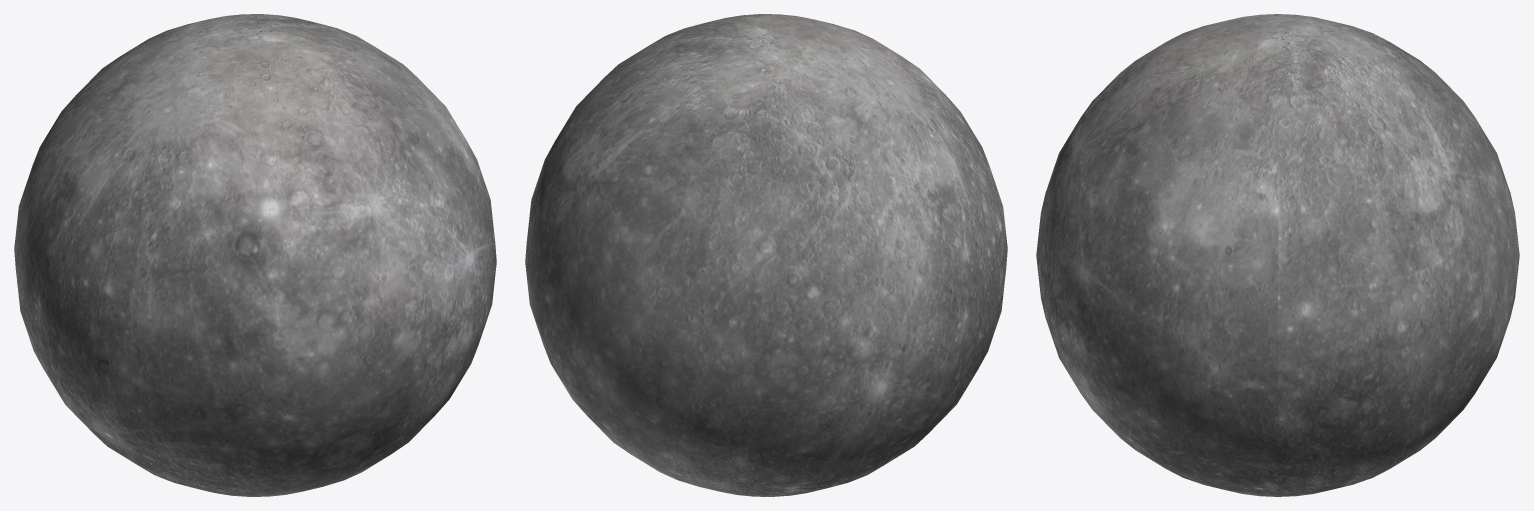
Rendered from Mercury.gltf.
3 views of the same model, side by side, from view 1: azimuth 30°, elevation 25°; view 2: azimuth 150°, elevation 25°; view 3: azimuth 270°, elevation 25° (orthographic).
Visible parts, largest first — view 1: Sphere.025, Sphere.002; view 2: Sphere.002, Sphere.025; view 3: Sphere.002, Sphere.025.
Part boxes in pixels (x1=…): Sphere.025: x1=46, y1=30, x2=496, y2=496; Sphere.002: x1=14, y1=14, x2=370, y2=443; Sphere.002: x1=525, y1=30, x2=975, y2=496; Sphere.025: x1=651, y1=14, x2=1007, y2=443; Sphere.002: x1=1278, y1=14, x2=1519, y2=496; Sphere.025: x1=1036, y1=14, x2=1277, y2=496.
Bounding box in the file's own units: 2 × 2 × 2.
Materials: 5 (5 with a texture image).
